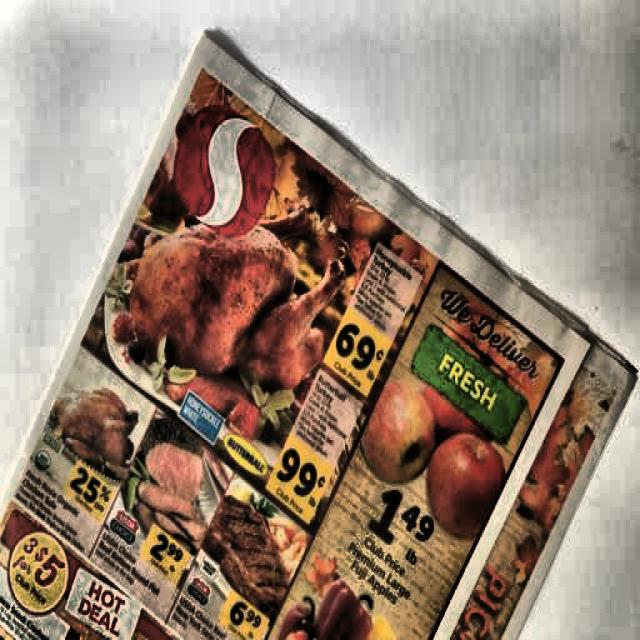paper: (8, 23, 636, 640)
